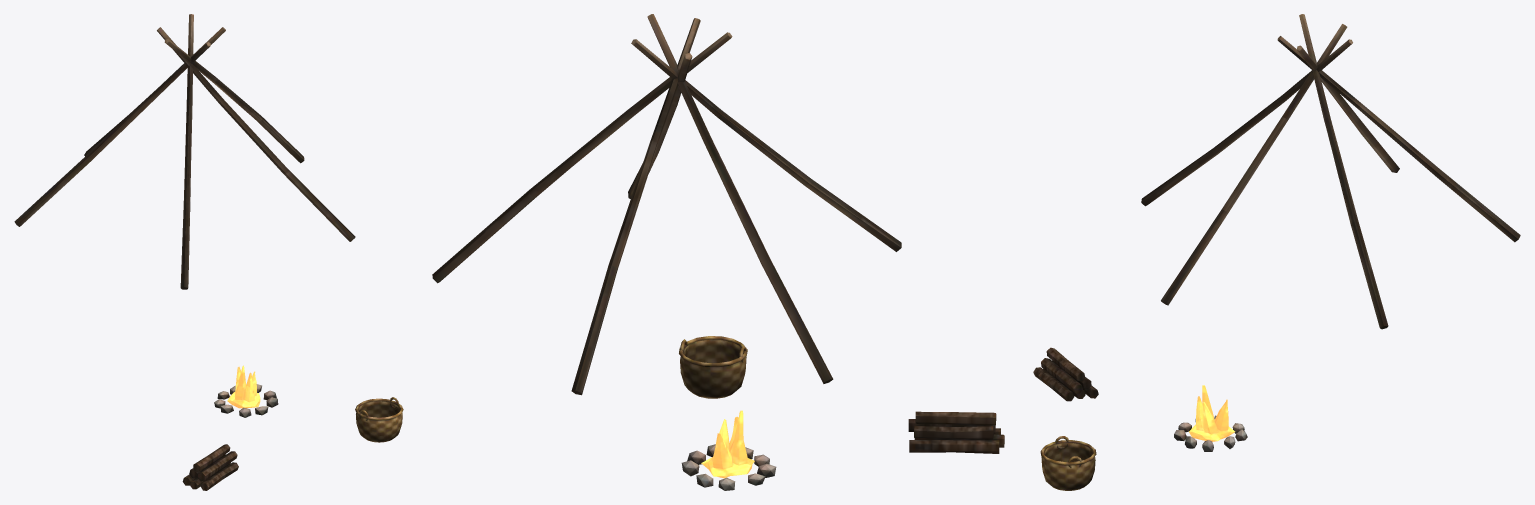
Rendered from hut_poles.gltf.
3 renders of one model, left to right at view 1: azimuth 30°, elevation 25°; view 2: azimuth 150°, elevation 25°; view 3: azimuth 270°, elevation 25°, orthographic. The views are drawn at different scales.
Parts seen in each view (by area): view 1: hut_poles; view 2: hut_poles; view 3: hut_poles.
Boxes of the visible parts, left/top/right/bottom form: hut_poles: left=14, top=14, right=403, bottom=490; hut_poles: left=432, top=14, right=1004, bottom=490; hut_poles: left=1033, top=14, right=1520, bottom=490.
Bounding box in the file's own units: 3.07 × 3.62 × 3.93.
5 materials, 5 textured.
